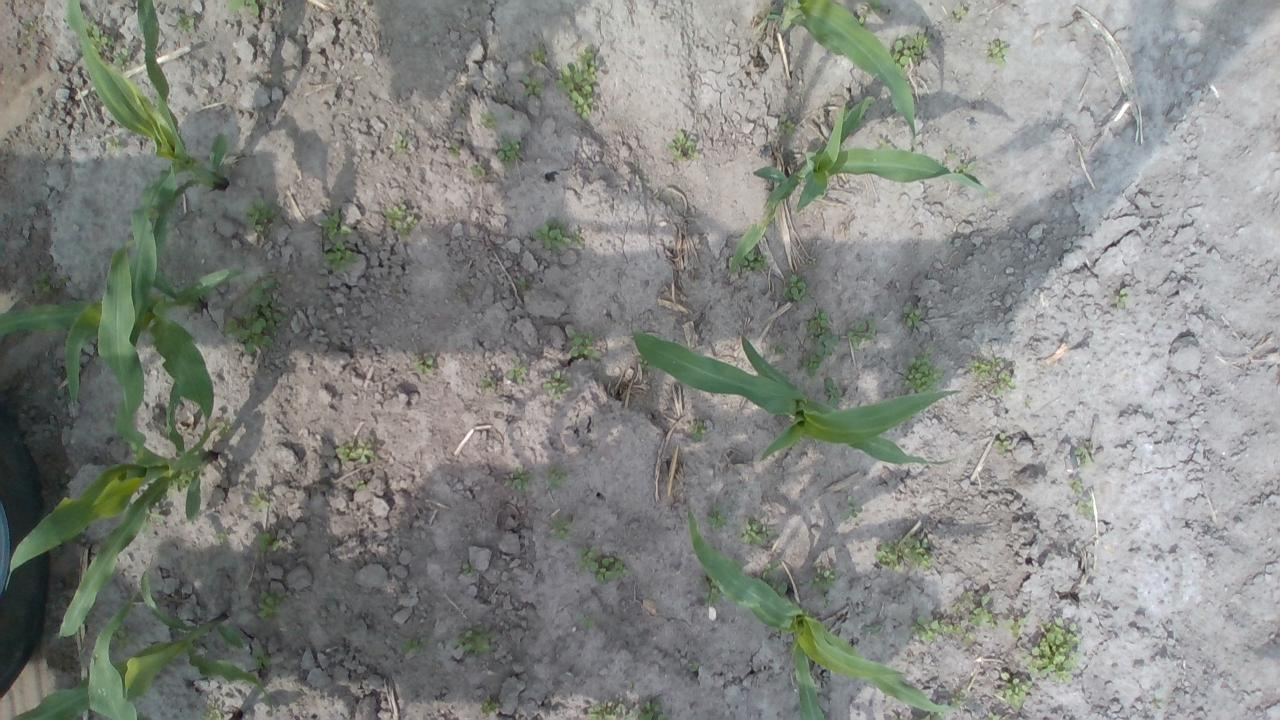Maize: (0, 245, 219, 635), (65, 0, 232, 349), (684, 509, 955, 720), (725, 94, 993, 273), (0, 268, 242, 457), (630, 329, 960, 466), (5, 565, 276, 720), (763, 0, 917, 137)
Weeds: (223, 280, 288, 352), (1020, 614, 1080, 684), (556, 45, 598, 120), (874, 534, 934, 570), (576, 544, 628, 585), (904, 346, 944, 392), (807, 310, 840, 360), (889, 31, 929, 72), (998, 670, 1032, 712), (453, 624, 496, 657), (242, 197, 282, 232), (534, 220, 580, 250), (80, 10, 114, 48), (323, 239, 362, 272), (316, 209, 354, 240), (969, 591, 998, 630), (668, 128, 699, 162), (739, 518, 777, 545), (382, 204, 418, 232), (759, 562, 787, 596), (336, 439, 374, 464), (782, 273, 811, 304), (846, 320, 878, 348), (504, 464, 536, 492), (256, 590, 282, 623), (542, 368, 568, 400), (967, 356, 1003, 379), (911, 614, 940, 642), (938, 605, 964, 636), (808, 569, 841, 593), (568, 329, 594, 359), (704, 504, 730, 532), (227, 0, 271, 16), (495, 136, 521, 162), (519, 73, 545, 98), (984, 38, 1008, 65), (701, 577, 724, 605), (742, 248, 768, 272), (990, 373, 1016, 397), (822, 377, 842, 406), (636, 703, 670, 720), (800, 354, 824, 378), (175, 10, 198, 34), (551, 520, 576, 542), (902, 304, 923, 330), (591, 704, 625, 720), (256, 531, 280, 553), (546, 466, 569, 488), (1073, 446, 1092, 470), (506, 363, 528, 382), (839, 496, 858, 518), (248, 494, 270, 512), (254, 646, 272, 668), (528, 46, 548, 65), (413, 355, 433, 374), (994, 432, 1008, 458), (477, 109, 496, 128), (1006, 612, 1024, 632), (112, 48, 130, 68), (951, 688, 967, 710), (779, 111, 794, 134), (202, 705, 225, 720), (692, 420, 709, 439), (955, 159, 976, 174), (1114, 288, 1128, 310), (478, 698, 496, 715), (393, 133, 408, 153), (400, 638, 418, 654), (35, 271, 51, 289), (470, 162, 487, 178), (1077, 498, 1094, 513), (105, 136, 123, 150), (1070, 479, 1084, 496), (764, 8, 782, 21), (952, 6, 967, 21), (144, 509, 161, 522), (772, 343, 787, 357), (462, 561, 476, 576), (868, 623, 883, 637), (878, 137, 894, 150), (138, 522, 151, 537), (944, 146, 956, 161), (582, 614, 594, 628), (686, 660, 700, 672), (865, 0, 880, 10), (931, 711, 946, 720), (856, 14, 868, 25), (353, 479, 365, 490), (450, 144, 460, 156), (990, 713, 1000, 720), (823, 600, 831, 608)
